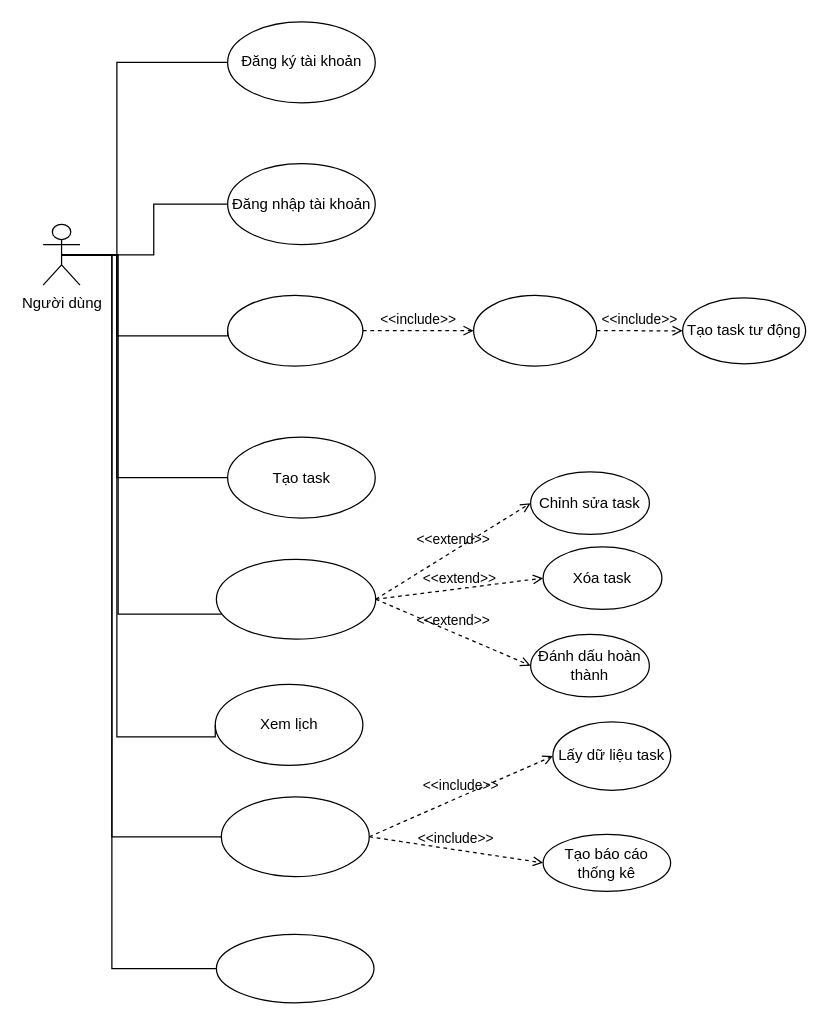
The diagram is 828 pixels wide and 1025 high, and some of its shapes have lost their labels. Here are the shapes that lost their labels. From the top down, the box of each, then its label:
(226, 294, 363, 366): Uploat file
(472, 294, 597, 366): Phân tích dữ liệu bằng AI
(215, 558, 376, 639): Xem danh sách task
(220, 796, 369, 877): Phân tích dữ liệu
(215, 933, 374, 1003): Chat với AI
